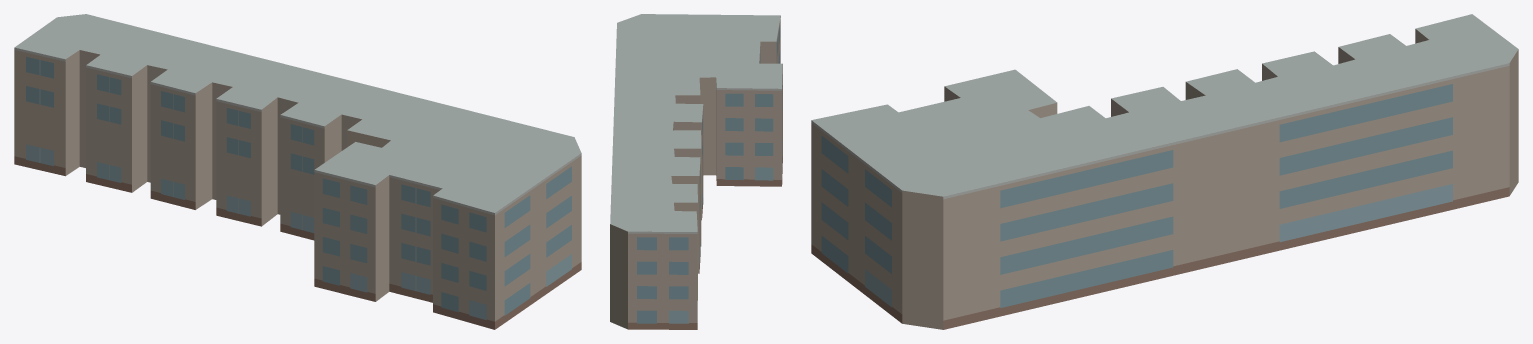
Rendered from survey-upis-33013491.glb.
3 renders of one model, left to right at view 1: azimuth 30°, elevation 25°; view 2: azimuth 150°, elevation 25°; view 3: azimuth 270°, elevation 25°, orthographic. The views are drawn at different scales.
Visible parts, largest first — view 1: survey-upis-33013491.tmp; view 2: survey-upis-33013491.tmp; view 3: survey-upis-33013491.tmp.
Boxes of the visible parts, x1,y1,x2,y2 form: survey-upis-33013491.tmp: [14, 14, 581, 329]; survey-upis-33013491.tmp: [610, 14, 782, 329]; survey-upis-33013491.tmp: [811, 14, 1518, 329].
Bounding box in the file's own units: 36.17 × 12.3 × 59.18.
